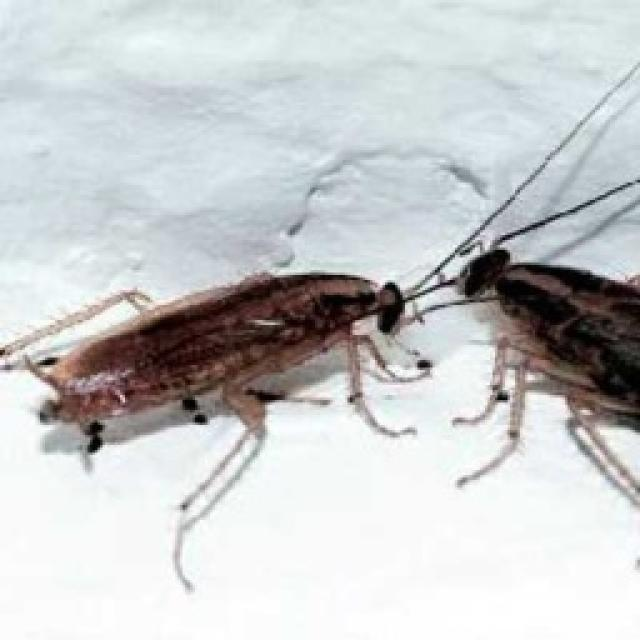cockroach: (428, 220, 640, 546), (29, 267, 389, 452)
